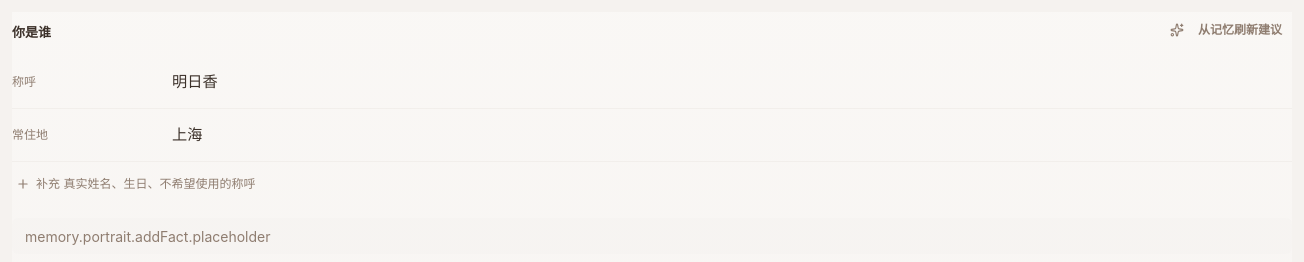
Scenario: PortraitIdentitySection › saves a single field inline without touching the others
Click the button "明日香". click: click(195, 82)
box: [172, 68, 218, 96]
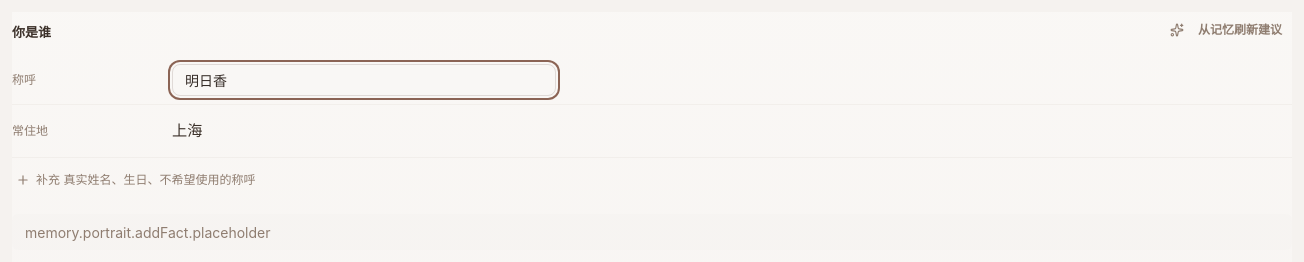
Replace the text in the field named "称呼" with "Asuka". click: (364, 80)
box: [172, 64, 556, 96]
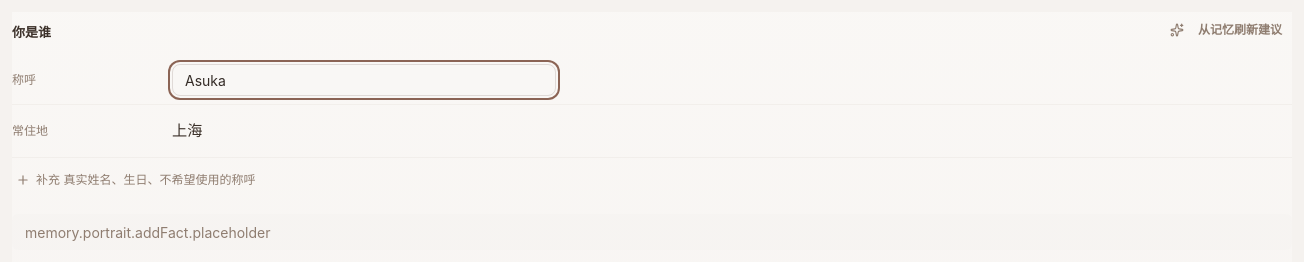
Press Enter in the field named "称呼", box [172, 64, 556, 96]
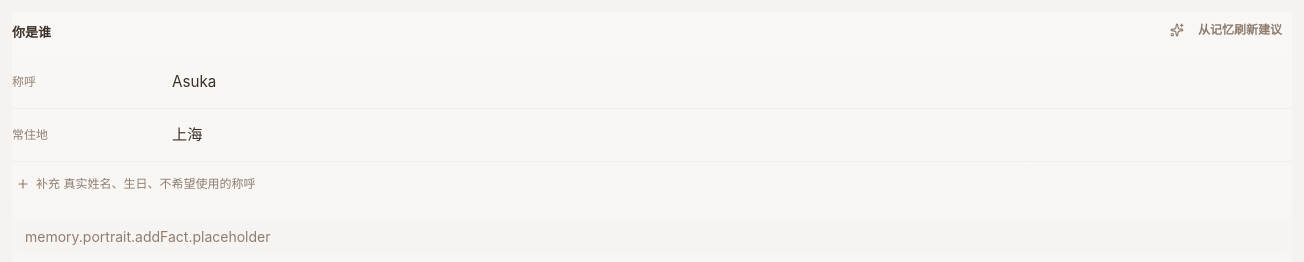
expect the button "Asuka" is shown: met, box [172, 68, 216, 96]
